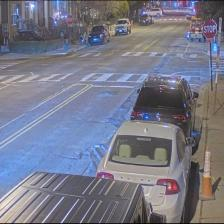Stop-sign: (202, 16, 218, 43), (65, 12, 74, 28)
